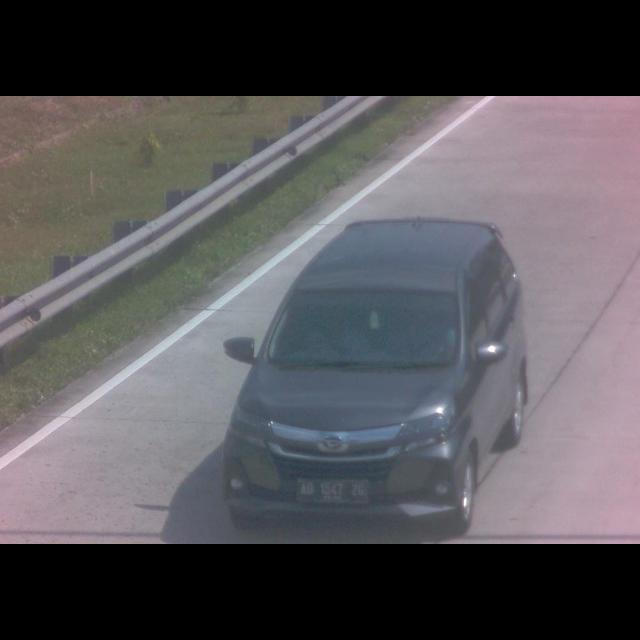plate: (294, 476, 368, 504)
